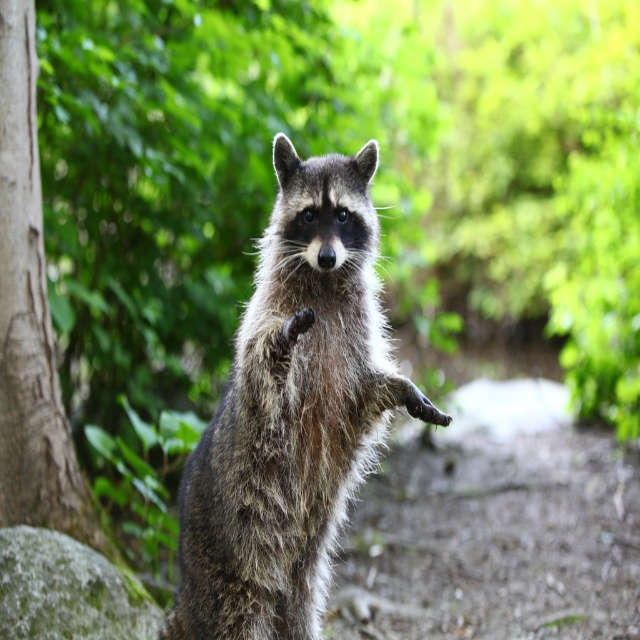Raccoon: (156, 130, 452, 639)
